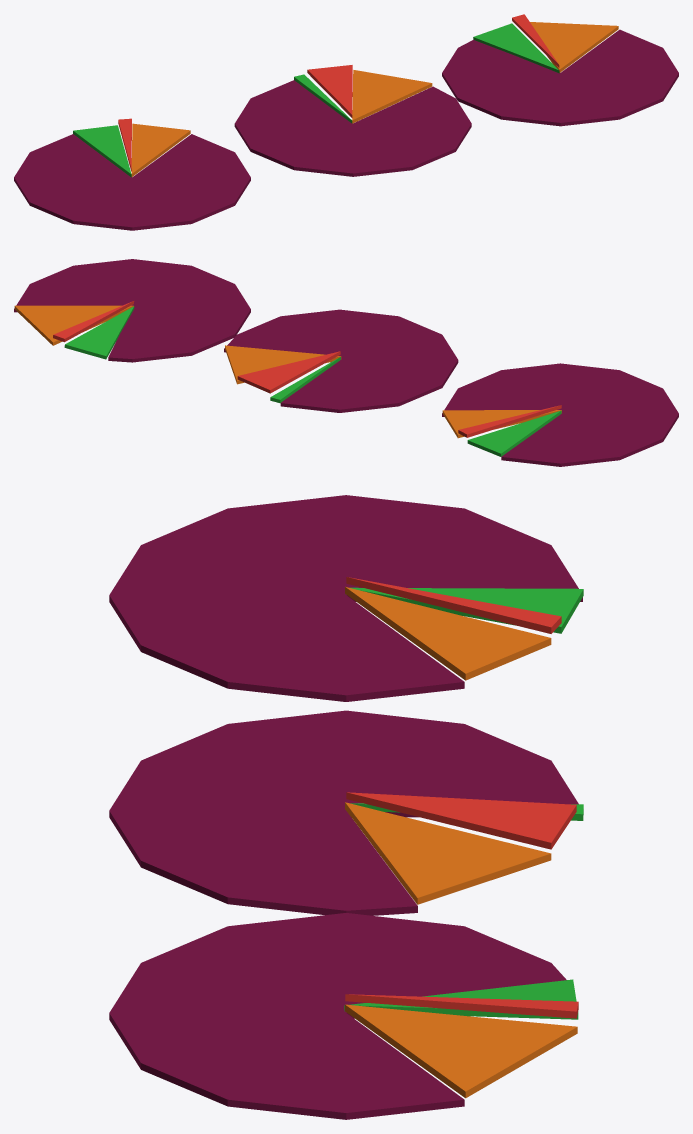
Rendered from level 3.fbx.
The picture shows the model from 3 angles, top to bottom: view 1: azimuth 30°, elevation 25°; view 2: azimuth 150°, elevation 25°; view 3: azimuth 270°, elevation 25°; orthographic projection. The views are drawn at different scales.
Parts seen in each view (by area): view 1: nitrogen_78_11, nitrogen_78_13, nitrogen_78_12, oxygen_20_97, oxygen_20_96, oxygen_20_95, others_0_65, others_0_64, carbon_dioxide_0_5, carbon_dioxide_0_4, others_0_66, carbon_dioxide_0_3; view 2: nitrogen_78_11, nitrogen_78_13, nitrogen_78_12, oxygen_20_96, oxygen_20_97, carbon_dioxide_0_5, others_0_64, others_0_65, oxygen_20_95, carbon_dioxide_0_3, carbon_dioxide_0_4, others_0_66; view 3: nitrogen_78_11, nitrogen_78_12, nitrogen_78_13, oxygen_20_96, oxygen_20_97, oxygen_20_95, carbon_dioxide_0_5, others_0_64, carbon_dioxide_0_3, carbon_dioxide_0_4, others_0_65.
Part boxes in pixels (x1=…): nitrogen_78_11: x1=14, y1=134, x2=250, y2=230; nitrogen_78_13: x1=234, y1=80, x2=471, y2=176; nitrogen_78_12: x1=442, y1=29, x2=678, y2=126; oxygen_20_97: x1=352, y1=70, x2=432, y2=123; oxygen_20_96: x1=530, y1=22, x2=618, y2=72; oxygen_20_95: x1=131, y1=123, x2=190, y2=176; others_0_65: x1=473, y1=23, x2=559, y2=73; others_0_64: x1=73, y1=125, x2=131, y2=177; carbon_dioxide_0_5: x1=307, y1=65, x2=352, y2=117; carbon_dioxide_0_4: x1=512, y1=14, x2=559, y2=67; others_0_66: x1=294, y1=74, x2=352, y2=123; carbon_dioxide_0_3: x1=118, y1=118, x2=131, y2=171; nitrogen_78_11: x1=442, y1=363, x2=678, y2=466; nitrogen_78_13: x1=224, y1=309, x2=458, y2=412; nitrogen_78_12: x1=14, y1=259, x2=250, y2=362; oxygen_20_96: x1=14, y1=305, x2=133, y2=345; oxygen_20_97: x1=225, y1=345, x2=341, y2=384; carbon_dioxide_0_5: x1=237, y1=351, x2=340, y2=393; others_0_64: x1=467, y1=410, x2=561, y2=456; others_0_65: x1=64, y1=306, x2=134, y2=359; oxygen_20_95: x1=442, y1=410, x2=561, y2=438; carbon_dioxide_0_3: x1=458, y1=405, x2=561, y2=437; carbon_dioxide_0_4: x1=53, y1=301, x2=134, y2=342; others_0_66: x1=270, y1=357, x2=340, y2=403; nitrogen_78_11: x1=109, y1=495, x2=582, y2=701; nitrogen_78_12: x1=109, y1=913, x2=566, y2=1119; nitrogen_78_13: x1=109, y1=710, x2=578, y2=915; oxygen_20_96: x1=345, y1=1004, x2=577, y2=1098; oxygen_20_97: x1=345, y1=802, x2=551, y2=904; oxygen_20_95: x1=345, y1=587, x2=551, y2=680; carbon_dioxide_0_5: x1=346, y1=792, x2=576, y2=849; others_0_64: x1=345, y1=587, x2=583, y2=633; carbon_dioxide_0_3: x1=346, y1=577, x2=561, y2=633; carbon_dioxide_0_4: x1=345, y1=994, x2=578, y2=1018; others_0_65: x1=344, y1=979, x2=578, y2=1019.
Size of the model in its own units: 272 by 6.01 by 88.36.
